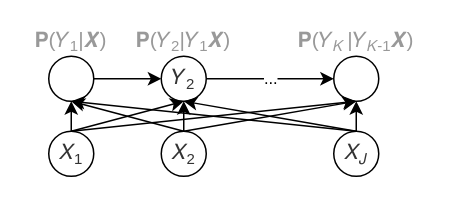
The diagram is 449 pixels wide and 203 high, and some of its shapes have lost their labels. The shapes that lost their labels are listed below. From the top down, each one's box as (x1, y1, x2, y2) in pixels, then its label:
(47, 55, 94, 101): 𝑌 1
(332, 55, 379, 101): 𝑌 𝐾
